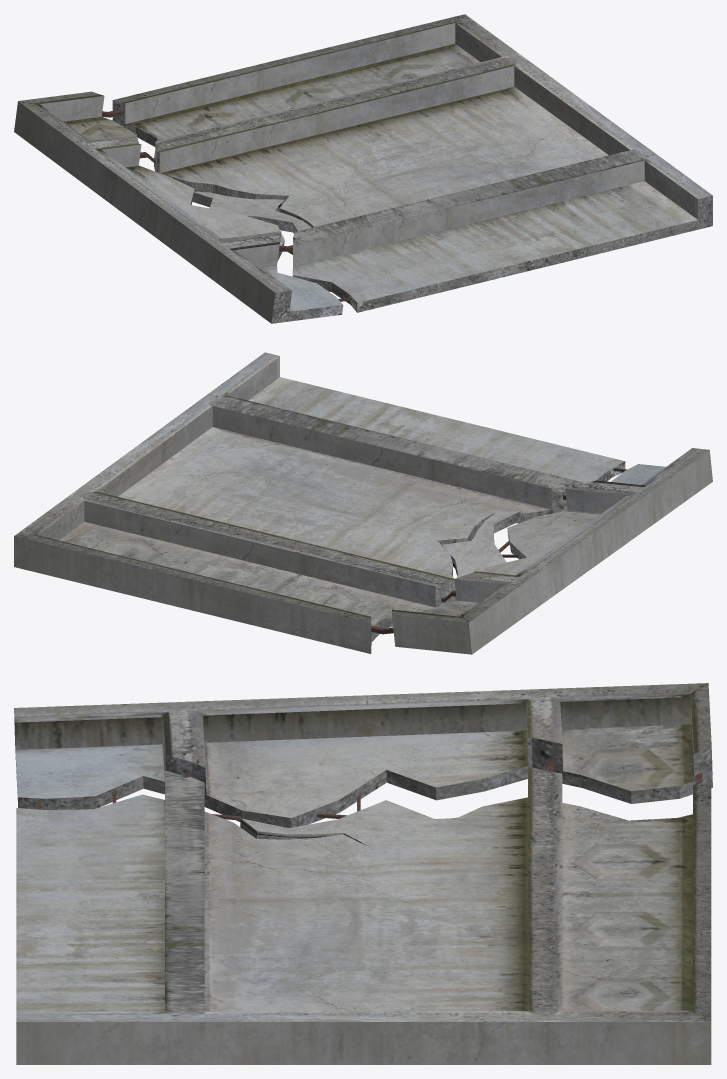
3 renders of one model, top to bottom at view 1: azimuth 30°, elevation 25°; view 2: azimuth 150°, elevation 25°; view 3: azimuth 270°, elevation 25°, orthographic. The views are drawn at different scales.
Parts seen in each view (by area): view 1: Zabor_01; view 2: Zabor_01; view 3: Zabor_01.
Boxes of the visible parts, <box> form: Zabor_01: <box>14,14,712,323</box>; Zabor_01: <box>14,352,712,654</box>; Zabor_01: <box>14,683,712,1064</box>.
Size of the model in its own units: 218 by 28.24 by 208.
